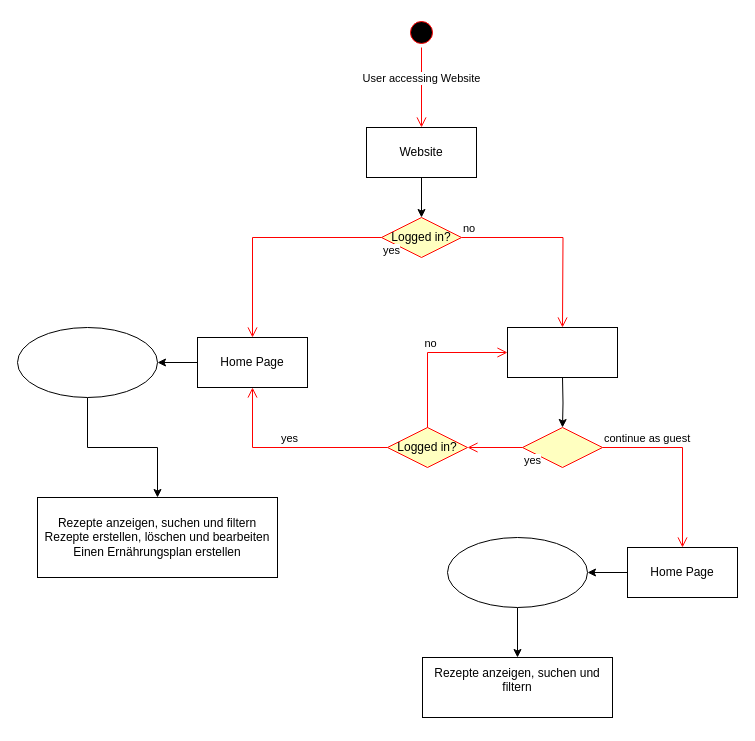
Some shapes in this 755 by 741 pixel diagram are drawn without their labels. The shapes that lost their labels are listed below. From the top down, each one's centre as x and y in pixels, then its label:
(x=87, y=362): Full Access
(x=562, y=352): Login Page
(x=562, y=447): Want to log in?
(x=517, y=572): Limmited Access
